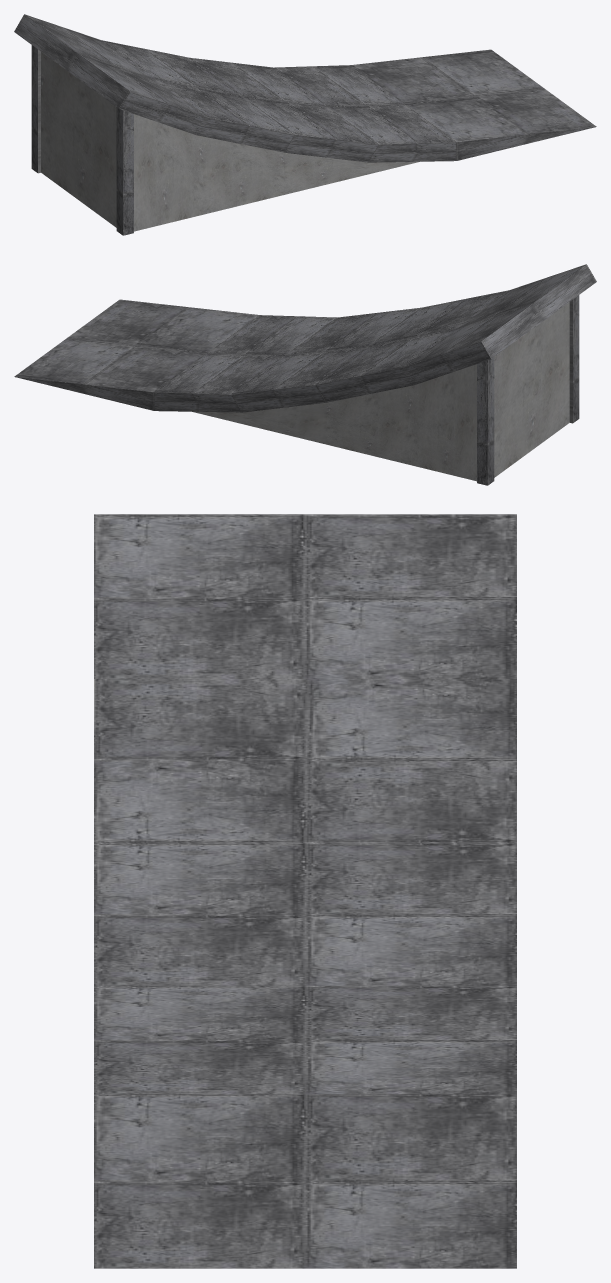
File: rampNormal.fbx
3 renders of one model, top to bottom at view 1: azimuth 30°, elevation 25°; view 2: azimuth 150°, elevation 25°; view 3: azimuth 270°, elevation 25°, orthographic. The views are drawn at different scales.
Parts seen in each view (by area): view 1: rampNormal; view 2: rampNormal; view 3: rampNormal.
Boxes of the visible parts, x1=… form: rampNormal: x1=14, y1=14, x2=596, y2=235; rampNormal: x1=14, y1=264, x2=596, y2=485; rampNormal: x1=94, y1=514, x2=516, y2=1268.
Size of the model in its own units: 521 by 156 by 200.
